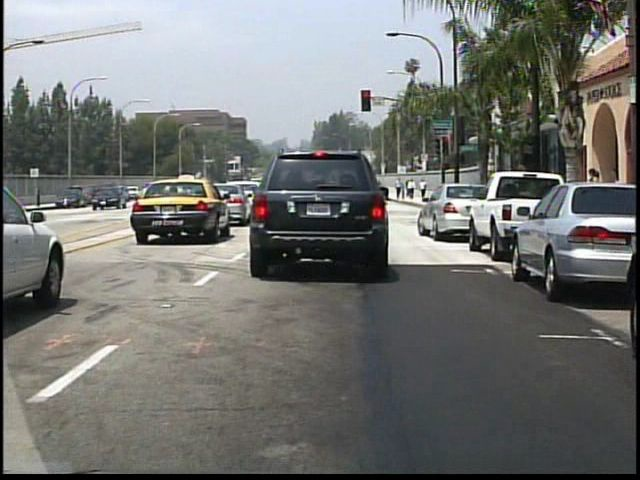person: (584, 165, 606, 229), (419, 178, 429, 200), (397, 176, 405, 199), (408, 178, 416, 201)
